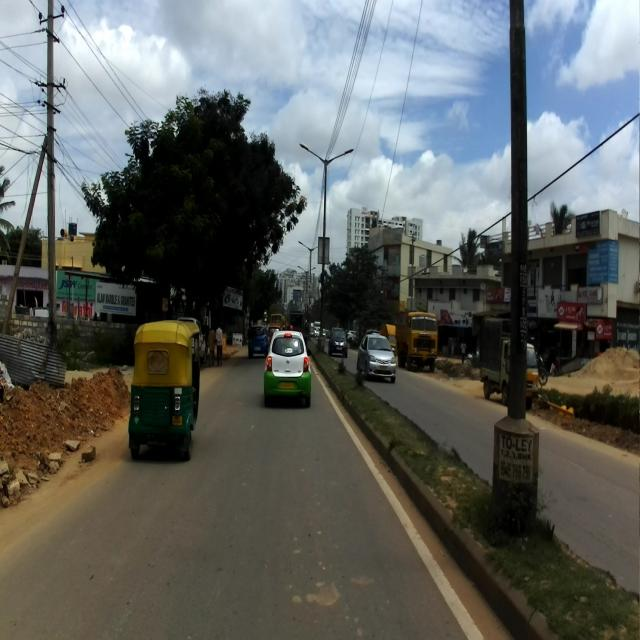autorickshaw: (129, 317, 204, 461)
car: (260, 323, 312, 411)
truck: (476, 315, 540, 411)
